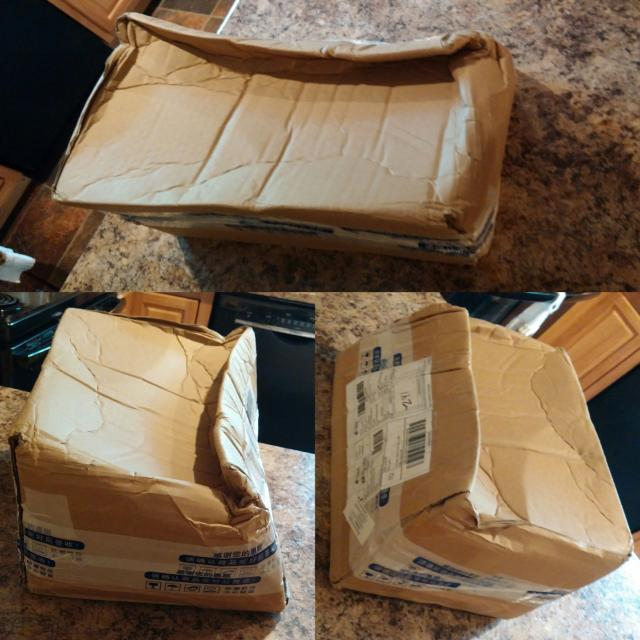box: (44, 321, 287, 596), (275, 152, 503, 411), (274, 381, 491, 552), (476, 68, 617, 247), (477, 221, 612, 378), (470, 353, 603, 504)
opened: (58, 320, 287, 432), (299, 150, 502, 272), (485, 68, 620, 118)
